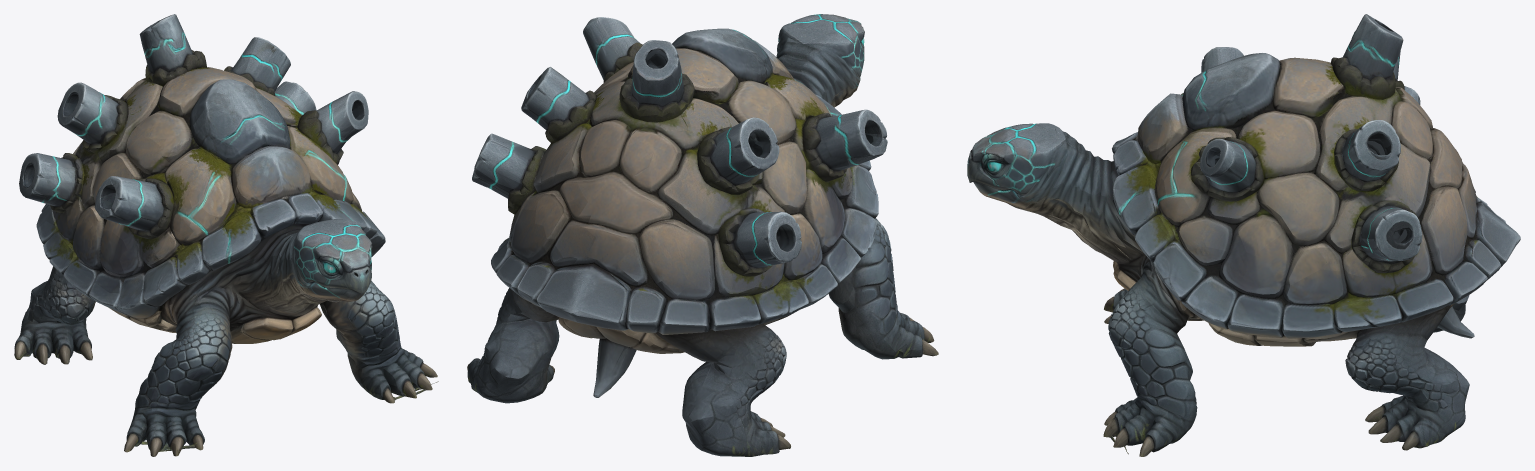
File: cannonback_b.glb
The picture shows the model from 3 angles, left to right: view 1: azimuth 30°, elevation 25°; view 2: azimuth 150°, elevation 25°; view 3: azimuth 270°, elevation 25°; orthographic projection. The views are drawn at different scales.
Visible parts, largest first — view 1: Mesh_0; view 2: Mesh_0; view 3: Mesh_0.
Part boxes in pixels (x1,y1,x2,y2): Mesh_0: [14, 14, 438, 456]; Mesh_0: [467, 14, 938, 456]; Mesh_0: [967, 14, 1520, 456].
Size of the model in its own units: 1.35 by 1.34 by 1.9.
1 material, 1 textured.
